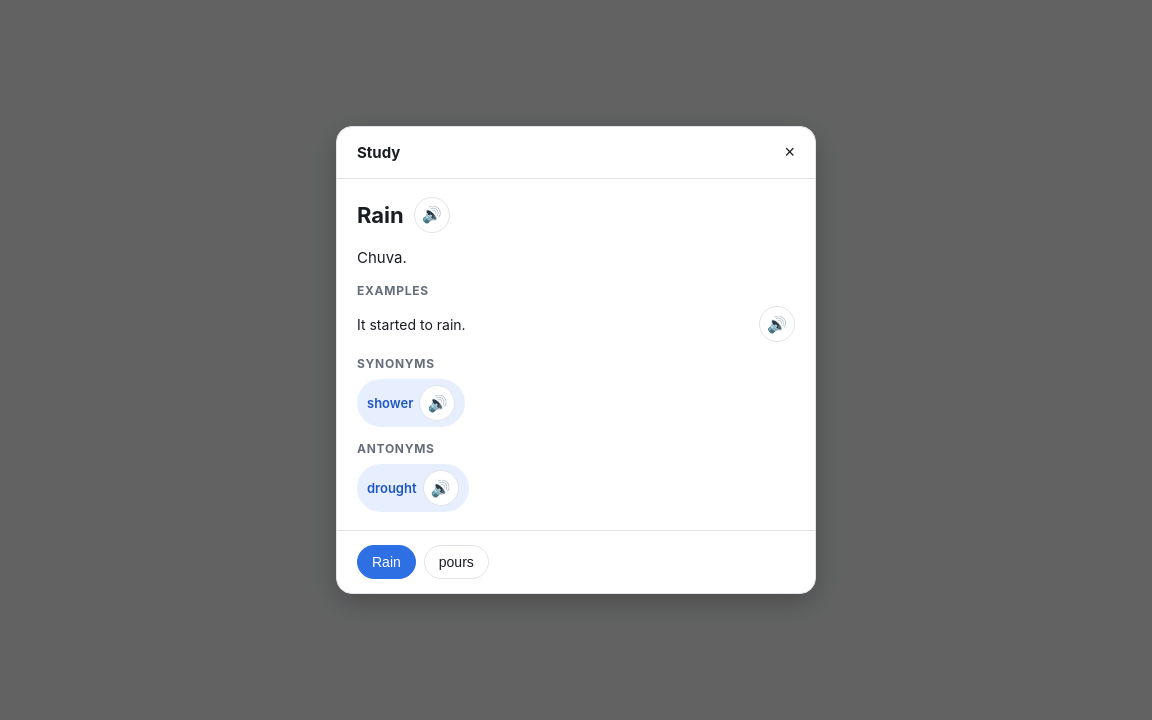
Test: StudyWordModal › shows a fallback message for a word with no glossary entry
What coordinates should you click on to do the following:
click the button with class "study-word-btn" showing "pours"
I would click on:
 (456, 562)
Its box is x1=424 y1=545 x2=489 y2=579.
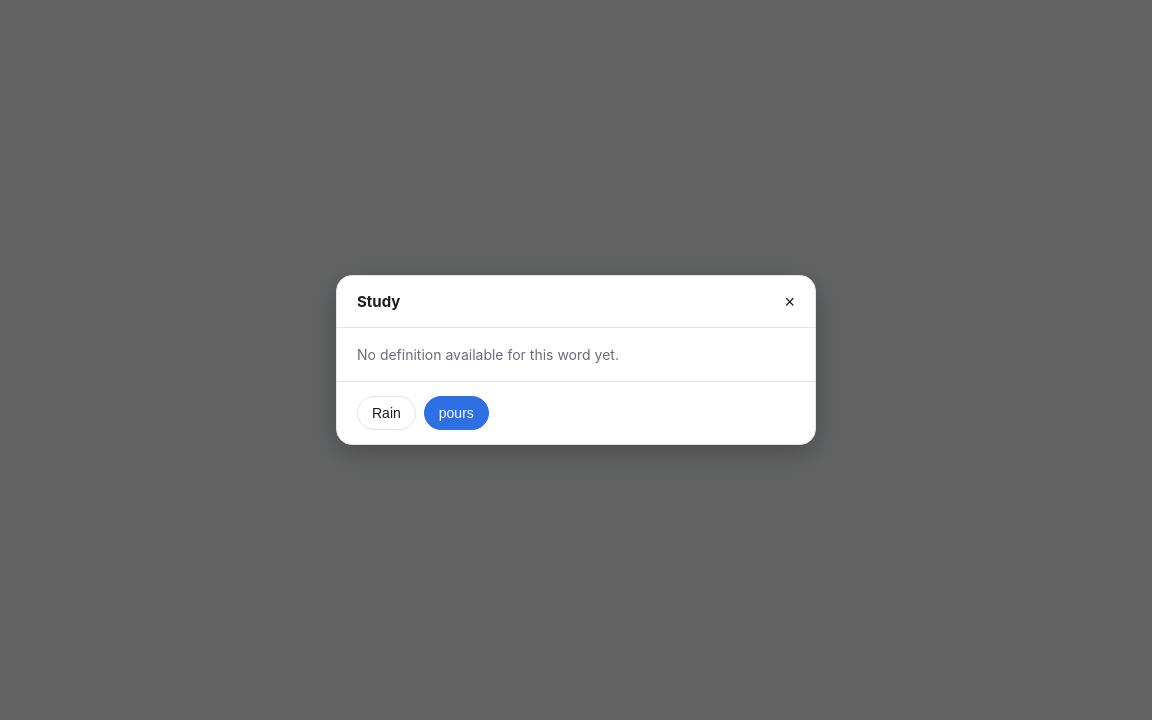
Now the text "No definition available for this word yet." is shown, box x1=357 y1=346 x2=619 y2=363
